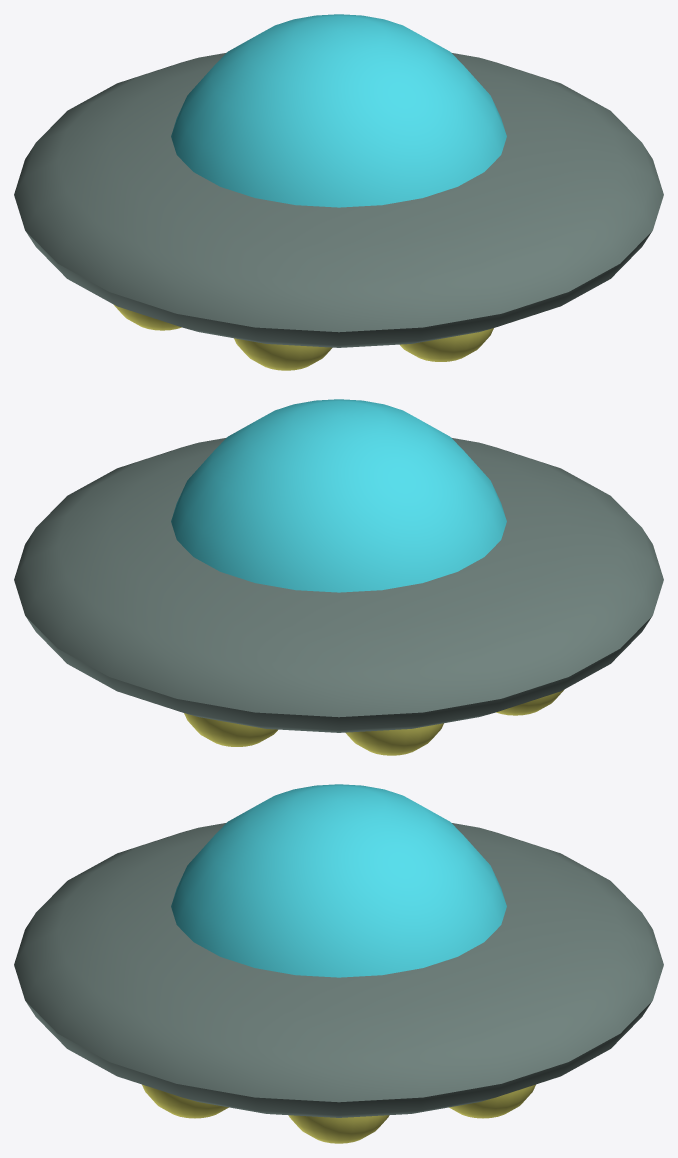
Rendered from ufo.glb.
3 renders of one model, top to bottom at view 1: azimuth 30°, elevation 25°; view 2: azimuth 150°, elevation 25°; view 3: azimuth 270°, elevation 25°, orthographic.
Visible parts, largest first — view 1: ufo; view 2: ufo; view 3: ufo.
Part boxes in pixels (bbox=[...]): ufo: bbox=[14, 14, 663, 370]; ufo: bbox=[14, 399, 663, 755]; ufo: bbox=[14, 784, 663, 1143].
Size of the model in its own units: 1.56 by 0.6665 by 1.56.
